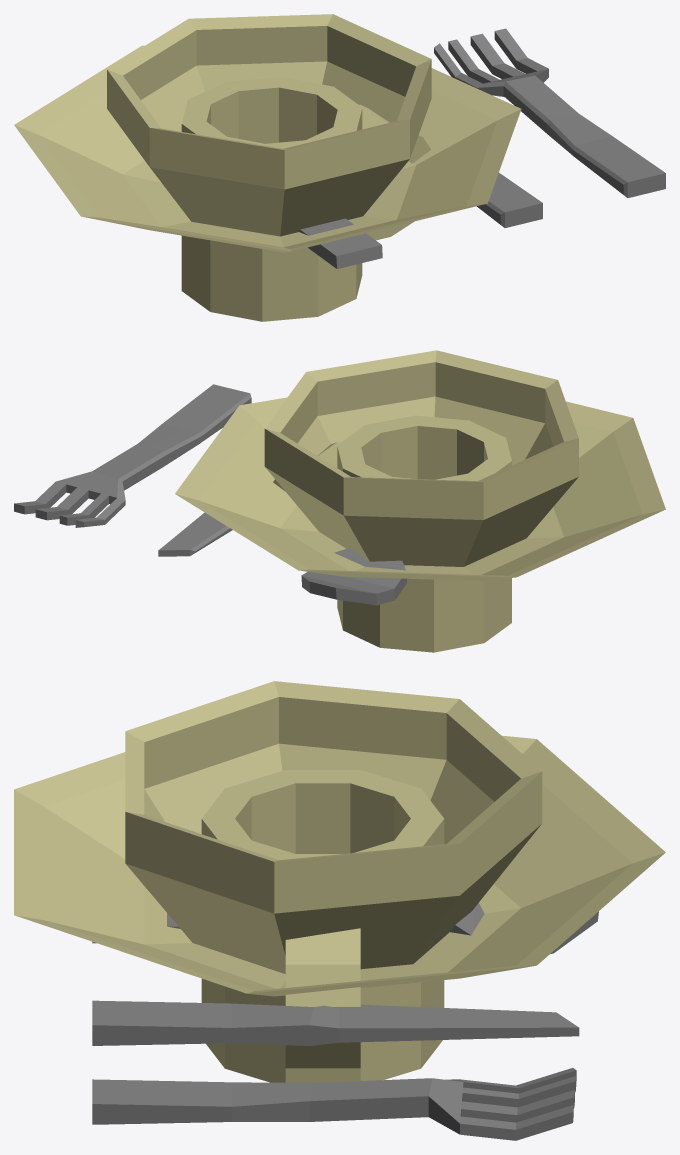
File: KitchenWare.fbx
3 renders of one model, top to bottom at view 1: azimuth 30°, elevation 25°; view 2: azimuth 150°, elevation 25°; view 3: azimuth 270°, elevation 25°, orthographic. The views are drawn at different scales.
Parts seen in each view (by area): view 1: Bowl, Plate, Mug, Fork, Spoon, Knife; view 2: Bowl, Plate, Mug, Fork, Spoon, Knife; view 3: Bowl, Plate, Mug, Fork, Knife, Spoon.
Part boxes in pixels (x1,y1,x2,y2): Bowl: (107,14,431,236); Plate: (14,45,521,252); Mug: (181,77,430,321); Fork: (434,28,665,197); Spoon: (299,218,382,268); Knife: (477,173,542,227); Bowl: (264,350,578,566); Plate: (175,397,665,580); Mug: (273,415,511,652); Fork: (14,384,251,527); Spoon: (301,548,406,605); Knife: (158,512,232,556); Bowl: (125,681,542,973); Plate: (14,735,665,996); Mug: (201,770,444,1082); Fork: (92,1068,576,1140); Knife: (92,1000,579,1045); Spoon: (92,903,598,953).
Size of the model in its own units: 361 by 128 by 283.
